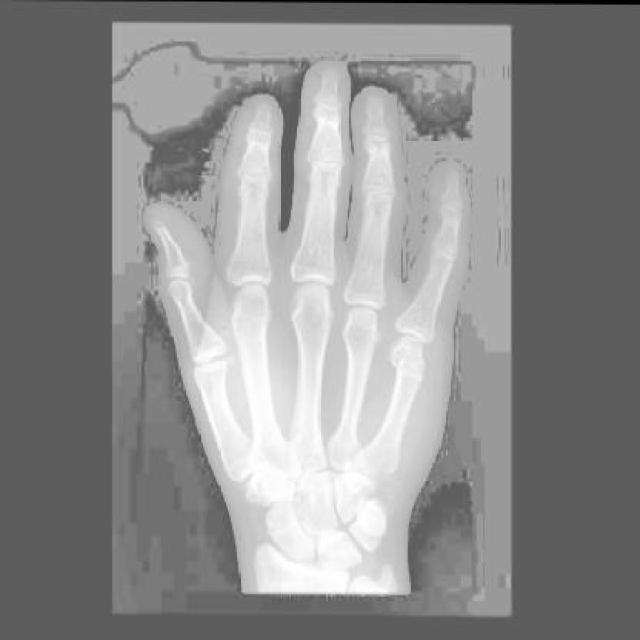Fracture: (384, 342, 438, 389)
